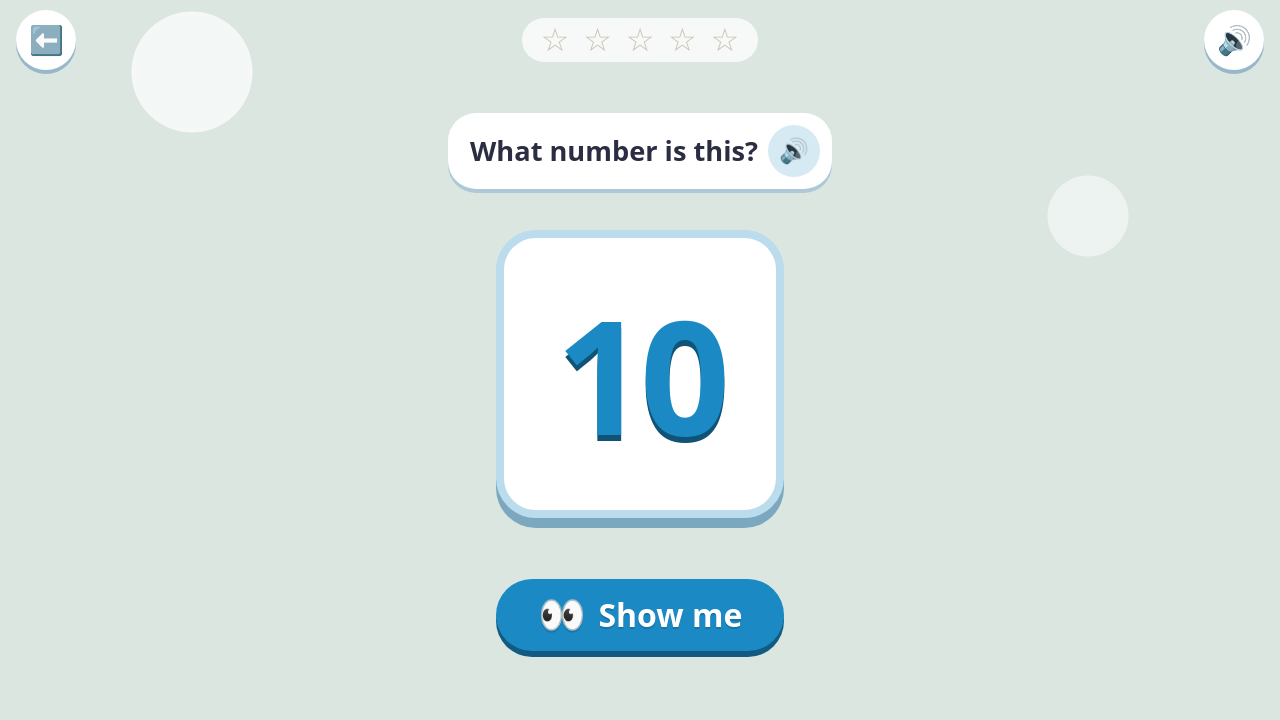
Test case: SayGame › shows numbers as dots in ten frames
What coordinates should you click on to do the following:
click the button "👀 Show me"
I would click on:
 (640, 615)
Its box is [496, 579, 784, 651].
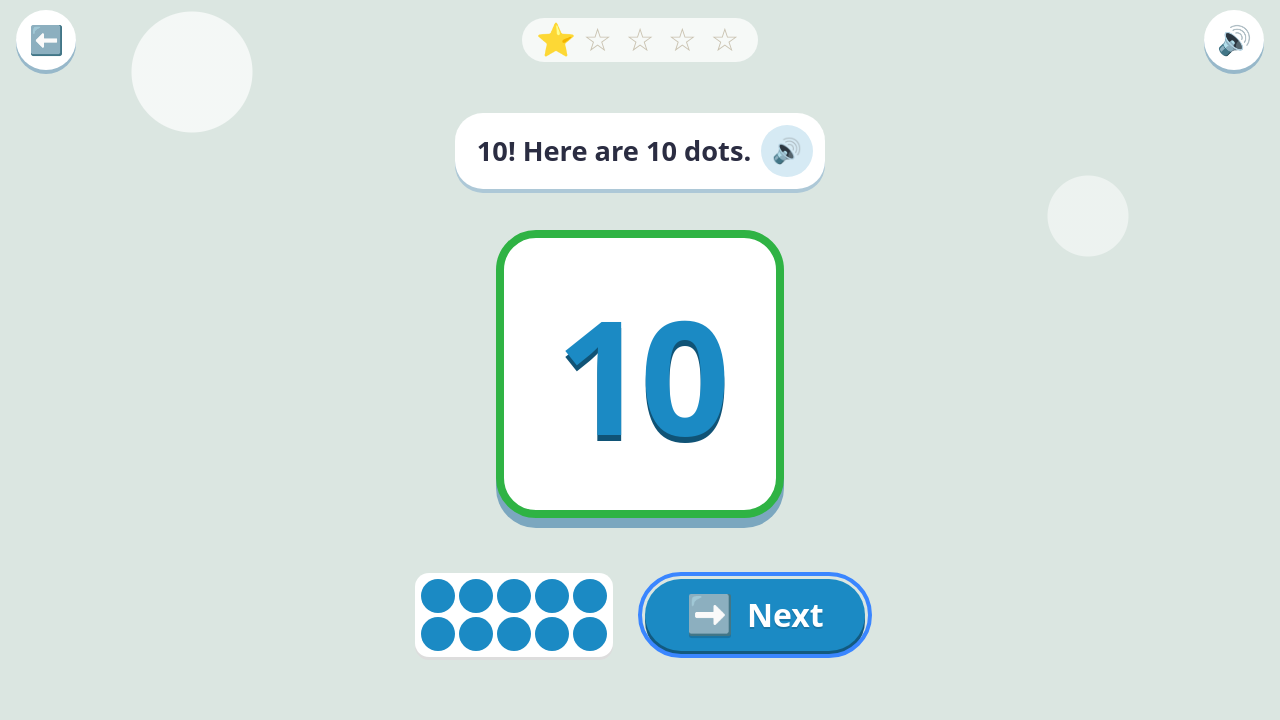
Check: the picture named "10 dots" is shown, box [415, 573, 613, 657]
